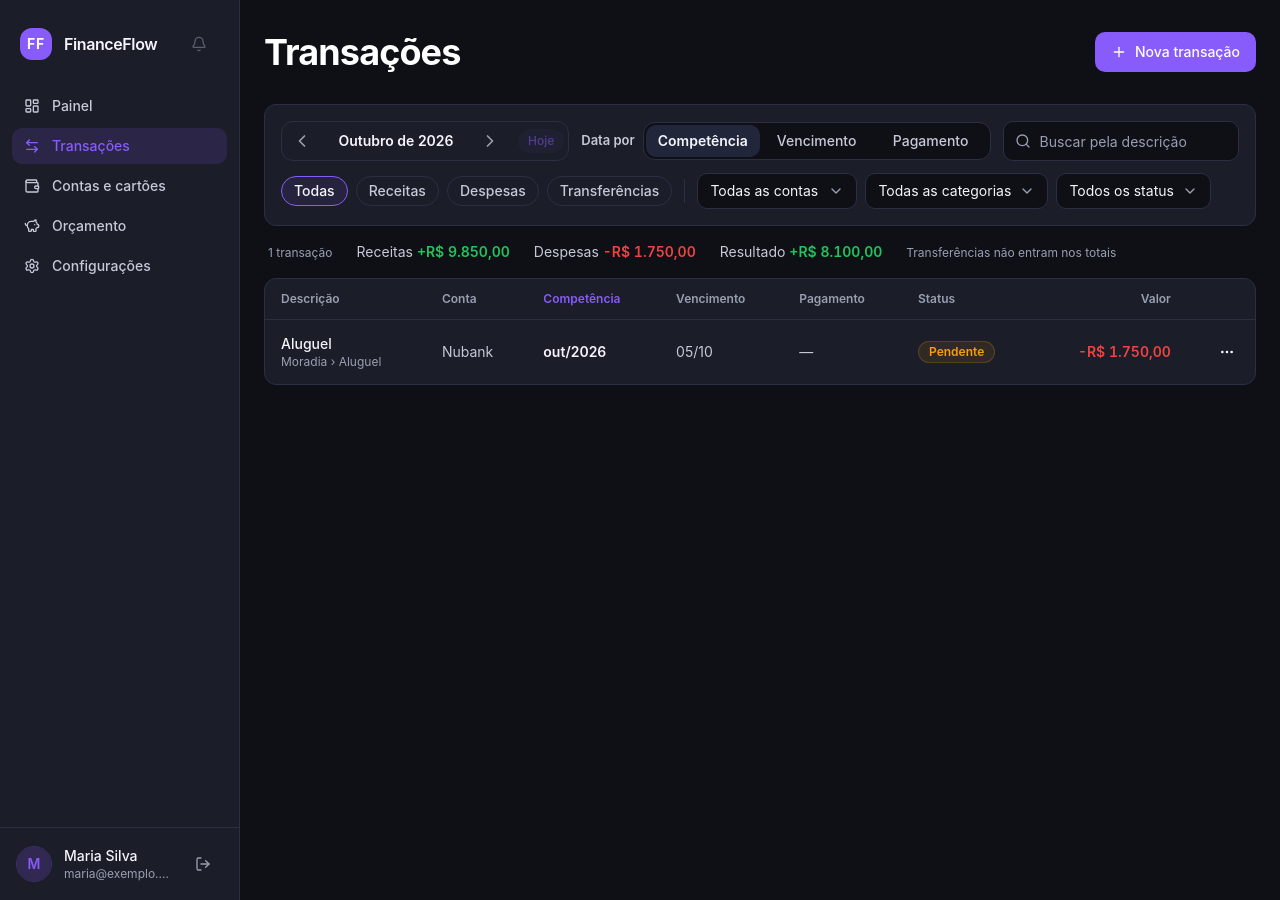
Test: transações › marca como paga e exclui pela linha
This screenshot has width=1280, height=900.
Click the button named "Ações de Aluguel" at coordinates (1227, 352), box [1207,332,1247,372]
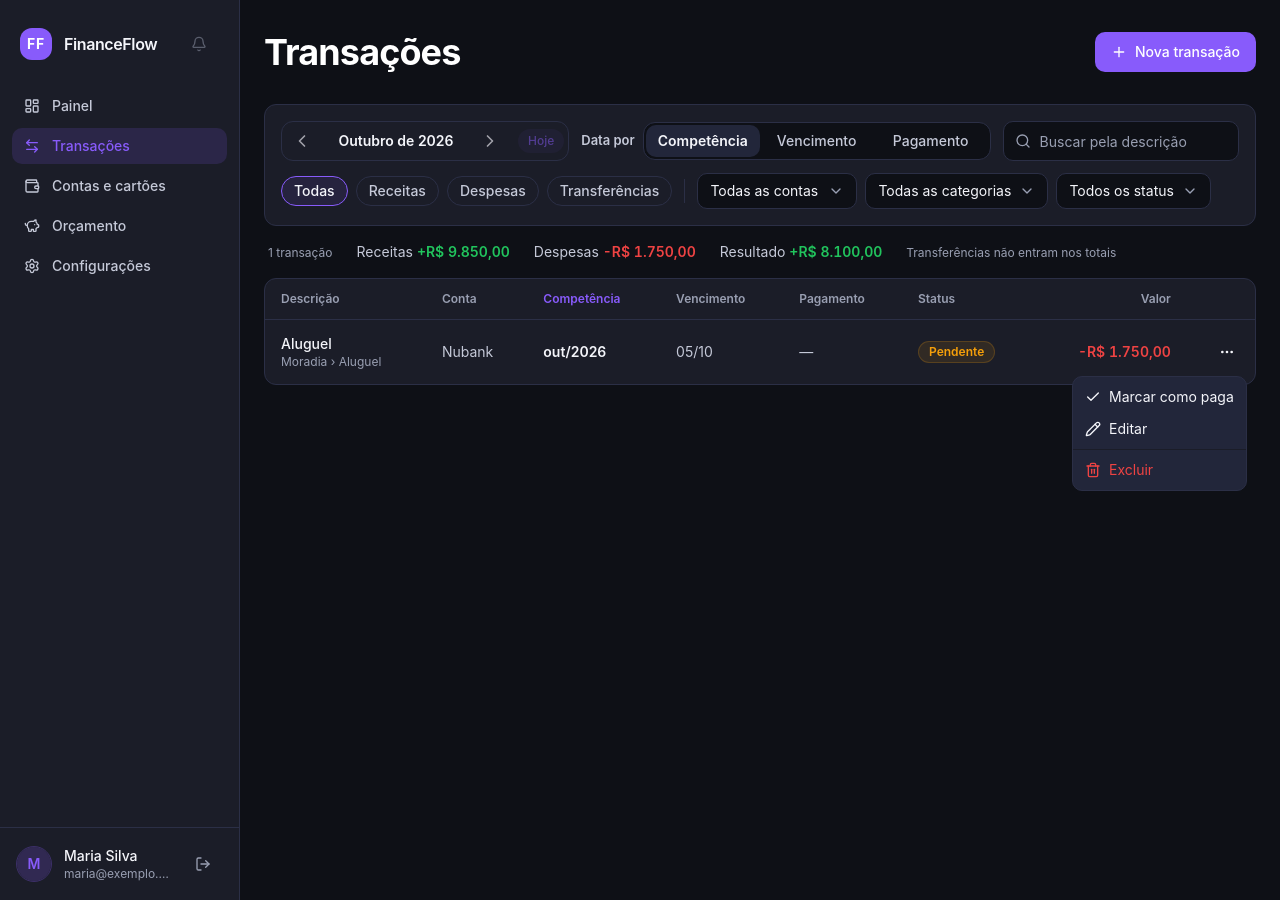
Click the menu item "Marcar como paga" at coordinates (1159, 396), box [1085,388,1234,405]
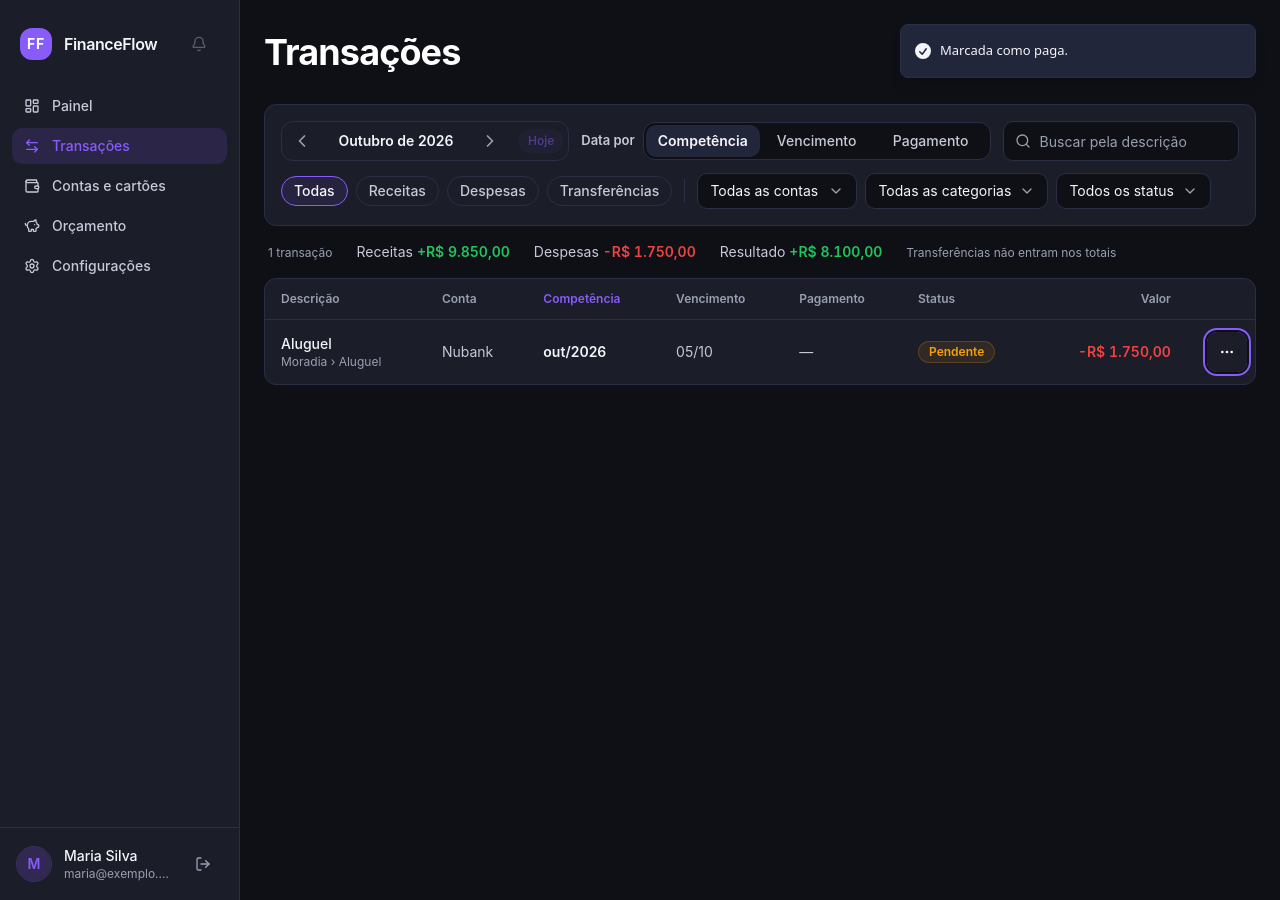
Check: the text "Marcada como paga." is shown, box [940,41,1068,60]
Click the button named "Ações de Aluguel" at coordinates (1227, 352), box [1207,332,1247,372]
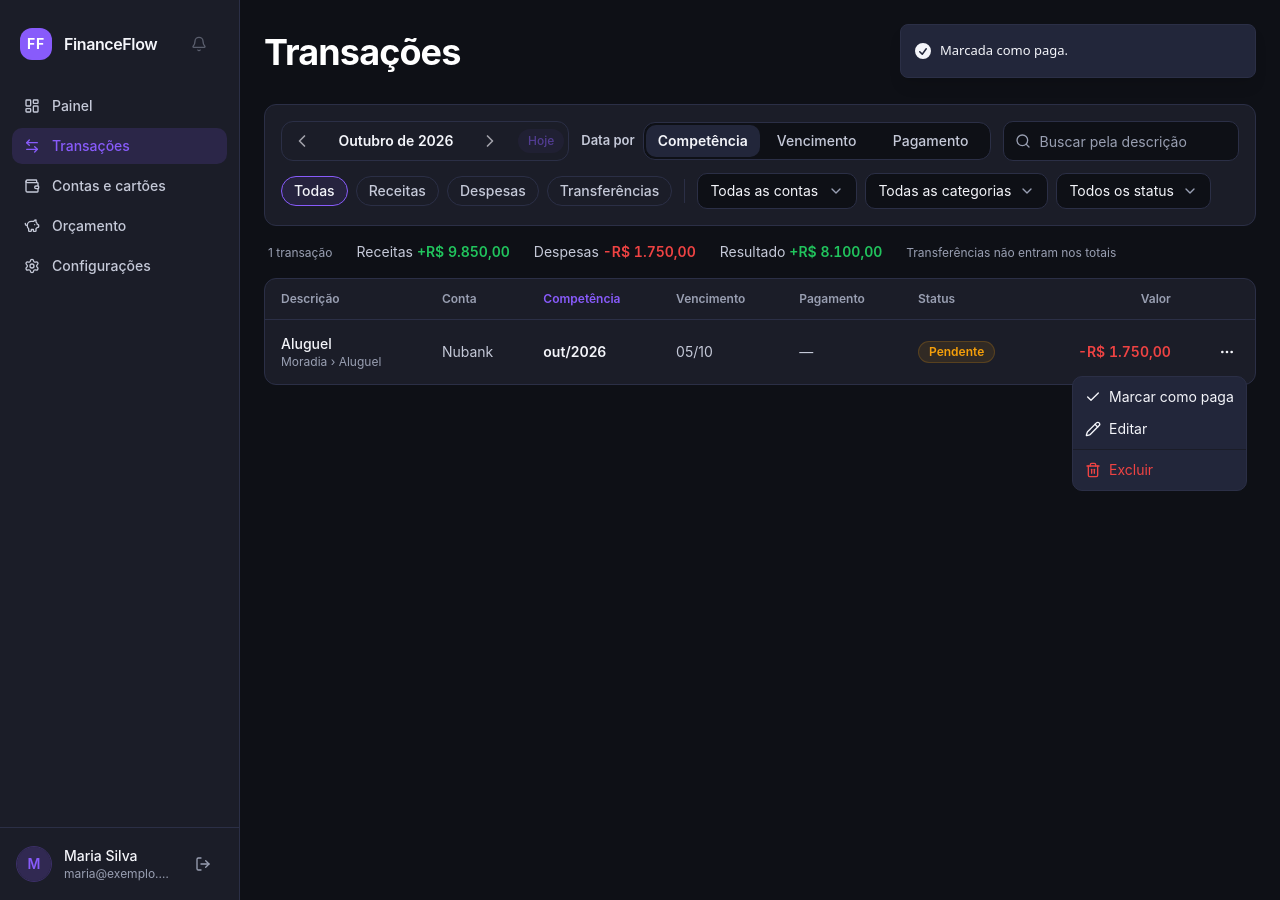
Click the menu item "Excluir" at coordinates (1119, 470), box [1085,461,1153,478]
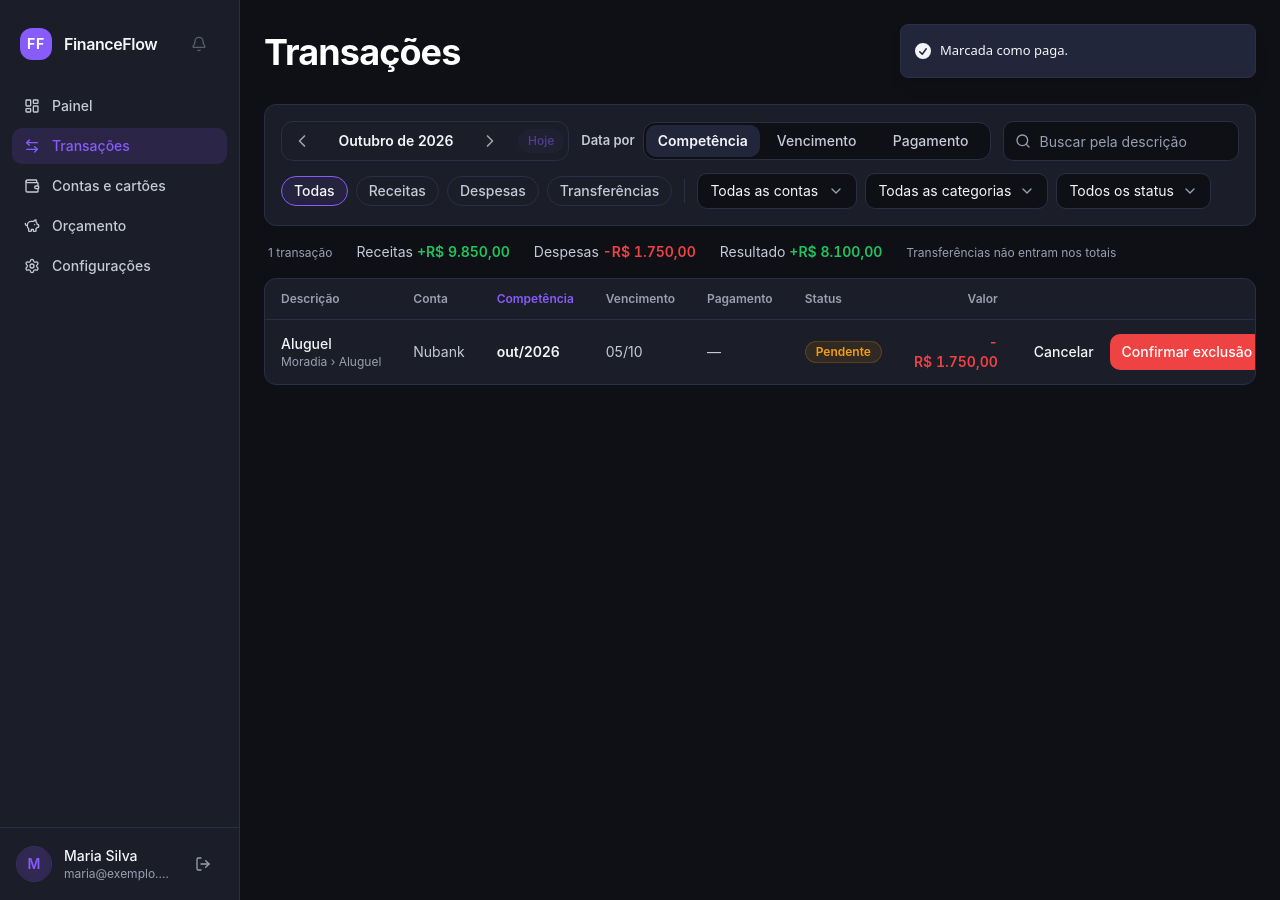
Click the button "Confirmar exclusão" at coordinates (1187, 352), box [1110,334,1264,370]
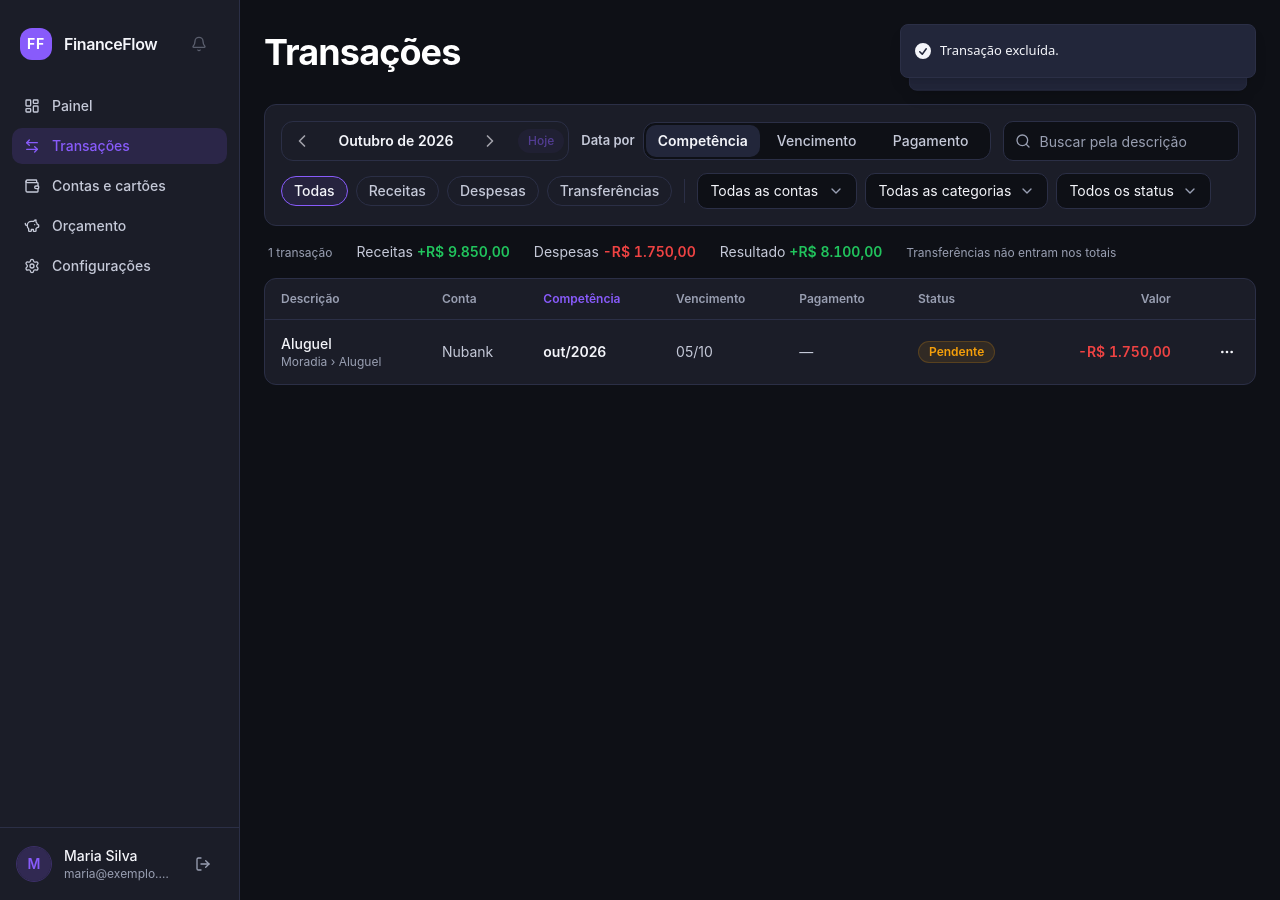
Check: the text "Transação excluída." is shown, box [940,41,1059,60]
